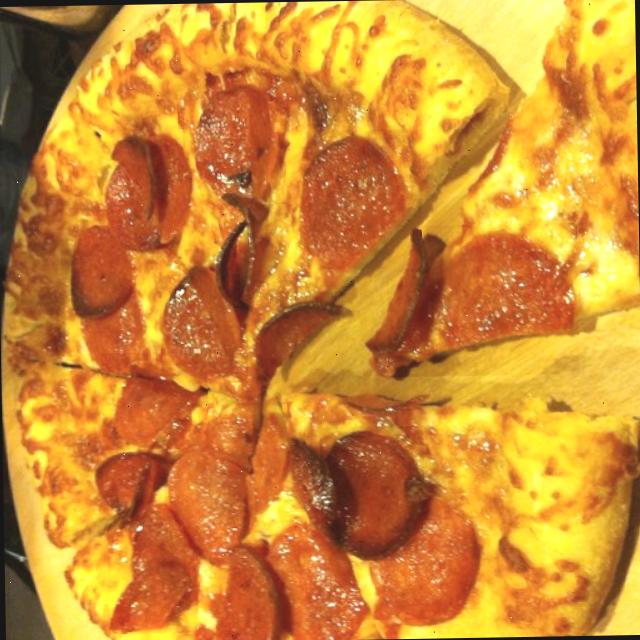pepperoni: (386, 220, 580, 375), (291, 128, 422, 268), (363, 480, 485, 618), (358, 208, 455, 360), (319, 424, 425, 555), (178, 89, 296, 204), (106, 490, 201, 632), (166, 431, 260, 557), (262, 528, 362, 640), (159, 258, 248, 382), (100, 348, 208, 448), (60, 205, 136, 332), (104, 130, 184, 248), (248, 290, 344, 388), (234, 400, 306, 530), (197, 543, 291, 640), (210, 203, 274, 323), (86, 450, 176, 530), (276, 428, 336, 538)
pizza: (5, 0, 640, 640)
